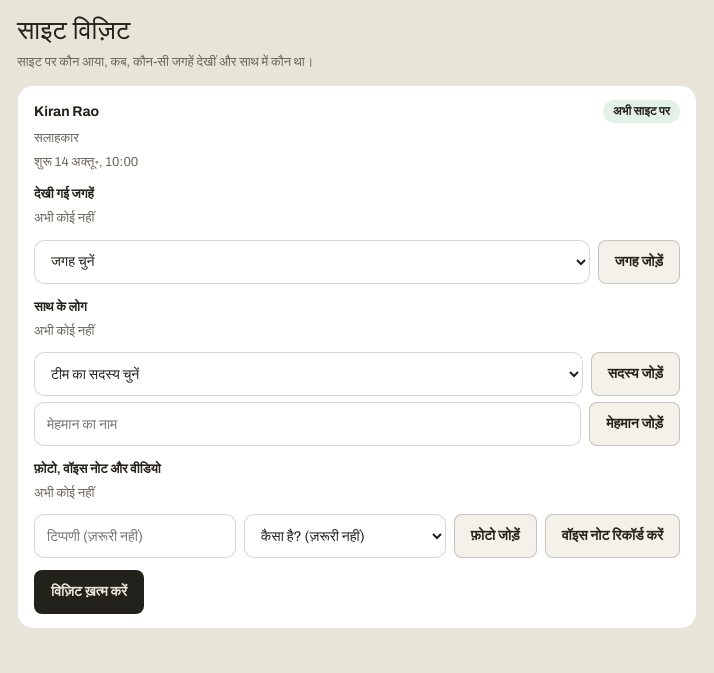
Test: Stage 1 voice notes on a visit › says how to allow the microphone when it was refused, in the person’s language
Click the button "वॉइस नोट रिकॉर्ड करें".
click(612, 536)  # box [545,514,680,558]
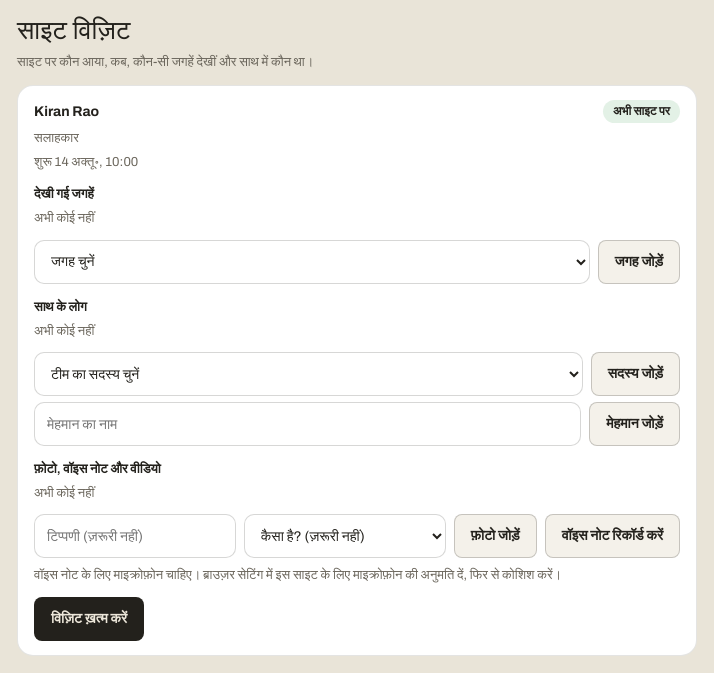
Result: the message shows "वॉइस नोट के लिए माइक्रोफ़ोन चाहिए। ब्राउज़र सेटिंग में इस साइट के लिए माइक्रोफ़ोन की अनुमति दें, फिर से कोशिश करें।" at [34,568,561,582]
